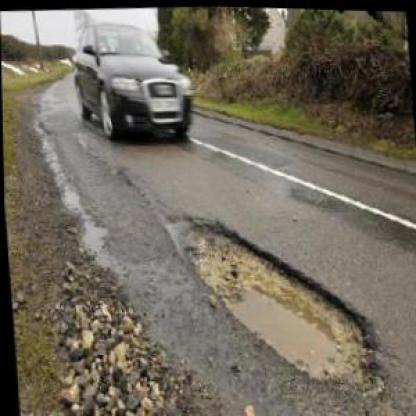pothole: (161, 202, 378, 387)
